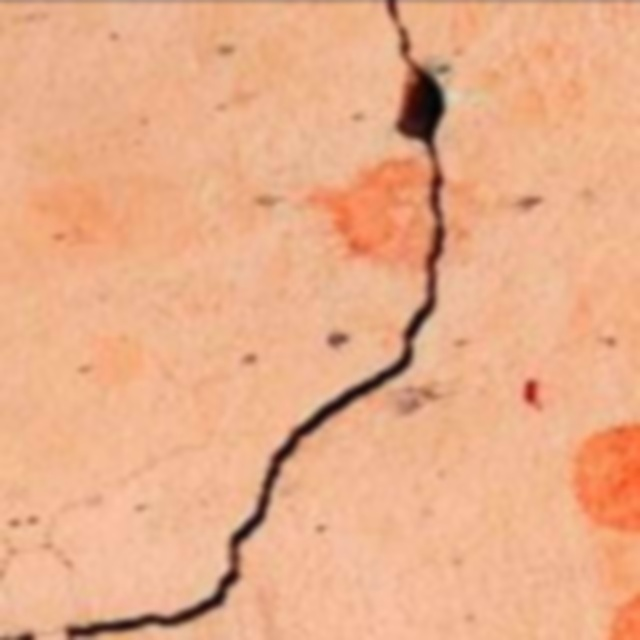SurfaceCrack: (46, 0, 478, 638)
